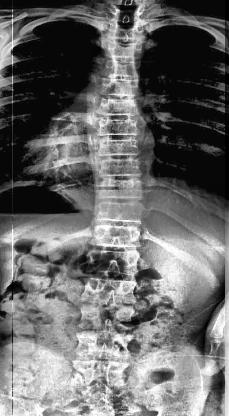Vertebrae: (75, 329, 137, 361), (72, 357, 130, 387), (82, 278, 140, 308), (78, 303, 134, 330), (87, 248, 137, 276), (92, 223, 144, 249), (99, 179, 150, 203), (94, 114, 144, 138), (93, 92, 140, 116), (97, 199, 145, 222), (98, 138, 142, 160), (104, 58, 143, 82), (102, 76, 142, 98), (102, 159, 145, 179), (106, 40, 145, 62)
